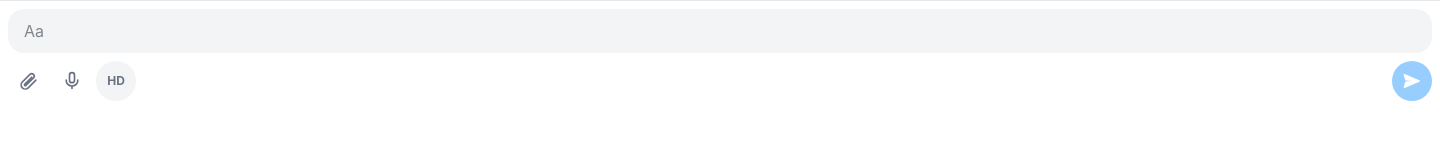
Composer send failure › does not clobber text typed while the failed send was in flight
The width and height of the screenshot is (1440, 162).
Type "first" into the text box with placeholder "Aa" at (720, 31), box [8,9,1432,53]
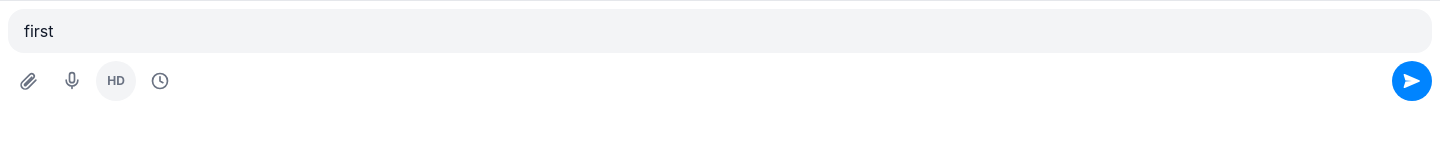
Click the button named "send" at (1412, 81), box [1392,61,1432,101]
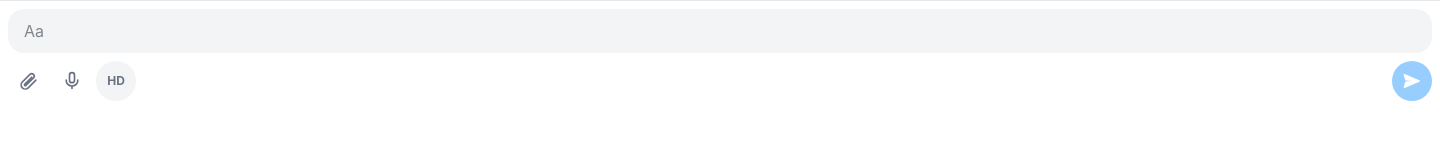
Now the text box with placeholder "Aa" is empty
// User starts the next message while the send is pending, then it fails.
Type "second" into the text box with placeholder "Aa" at (720, 31), box [8,9,1432,53]
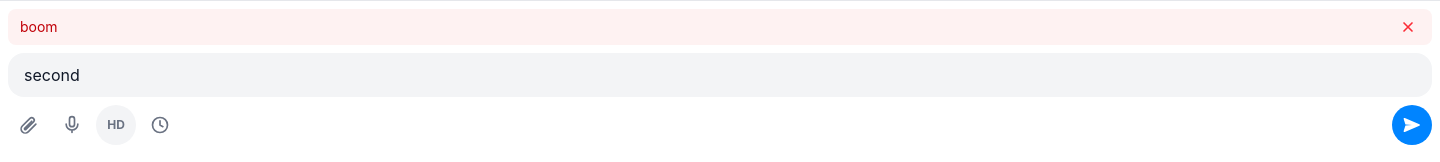
Now the message reads "boom", box [20,18,58,35]
